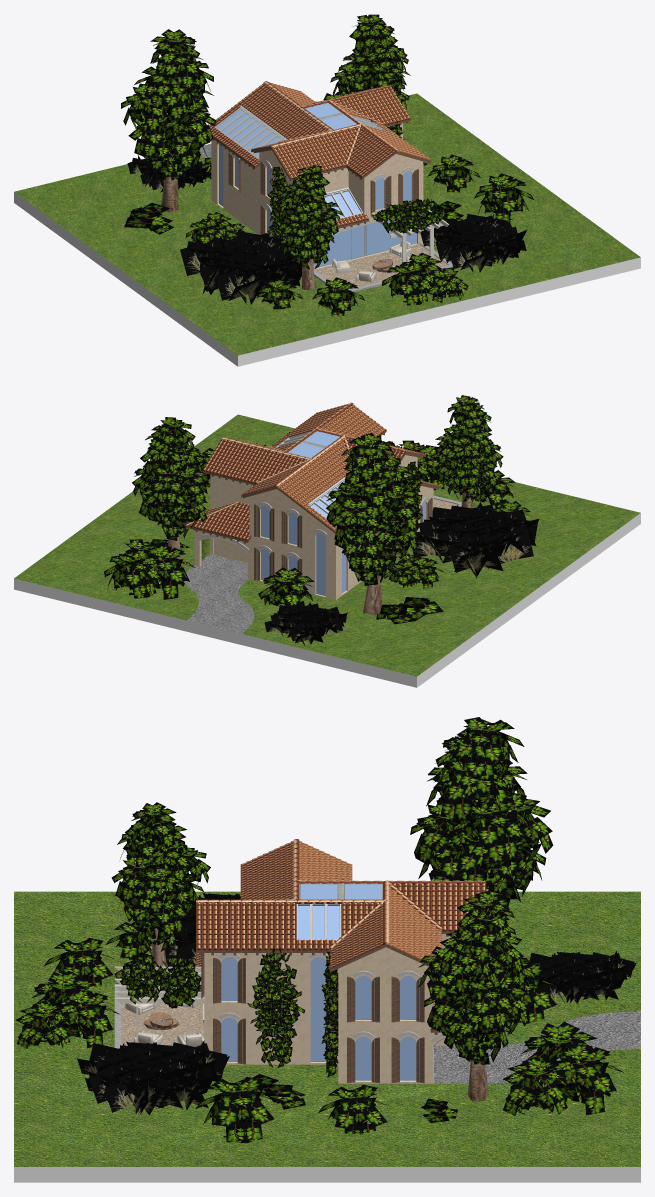
File: Home.glb
3 renders of one model, top to bottom at view 1: azimuth 30°, elevation 25°; view 2: azimuth 150°, elevation 25°; view 3: azimuth 270°, elevation 25°, orthographic. The views are drawn at different scales.
Visible parts, largest first — view 1: SHC Spanish Modern House 3, SHC Spanish Modern House 3.022, SHC Spanish Modern House 3.017, SHC Spanish Modern House 3.024, SHC Spanish Modern House 3.040, SHC Spanish Modern House 3.014, SHC Spanish Modern House 3.013, SHC Spanish Modern House 3.015, SHC Spanish Modern House 3.007, SHC Spanish Modern House 3.020, SHC Spanish Modern House 3.023, SHC Spanish Modern House 3.027 (+2 smaller); view 2: SHC Spanish Modern House 3, SHC Spanish Modern House 3.022, SHC Spanish Modern House 3.017, SHC Spanish Modern House 3.024, SHC Spanish Modern House 3.014, SHC Spanish Modern House 3.040, SHC Spanish Modern House 3.032, SHC Spanish Modern House 3.013, SHC Spanish Modern House 3.015, SHC Spanish Modern House 3.007, SHC Spanish Modern House 3.023; view 3: SHC Spanish Modern House 3.022, SHC Spanish Modern House 3, SHC Spanish Modern House 3.017, SHC Spanish Modern House 3.024, SHC Spanish Modern House 3.014, SHC Spanish Modern House 3.040, SHC Spanish Modern House 3.013, SHC Spanish Modern House 3.015, SHC Spanish Modern House 3.032, SHC Spanish Modern House 3.020, SHC Spanish Modern House 3.023, SHC Spanish Modern House 3.007 (+3 smaller).
Boxes of the visible parts, x1,y1,x2,y2 form: SHC Spanish Modern House 3: (14,93,640,355); SHC Spanish Modern House 3.022: (121,14,534,316); SHC Spanish Modern House 3.017: (209,81,431,226); SHC Spanish Modern House 3.024: (127,155,527,304); SHC Spanish Modern House 3.040: (14,192,640,366); SHC Spanish Modern House 3.014: (211,123,423,269); SHC Spanish Modern House 3.013: (217,103,416,268); SHC Spanish Modern House 3.015: (212,119,431,236); SHC Spanish Modern House 3.007: (214,105,414,234); SHC Spanish Modern House 3.020: (314,244,447,289); SHC Spanish Modern House 3.023: (161,122,392,290); SHC Spanish Modern House 3.027: (332,240,420,282); SHC Spanish Modern House 3: (14,414,640,676); SHC Spanish Modern House 3.022: (104,395,530,624); SHC Spanish Modern House 3.017: (185,402,441,540); SHC Spanish Modern House 3.024: (264,502,539,646); SHC Spanish Modern House 3.014: (194,455,433,599); SHC Spanish Modern House 3.040: (14,513,640,687); SHC Spanish Modern House 3.032: (184,554,254,634); SHC Spanish Modern House 3.013: (261,431,425,595); SHC Spanish Modern House 3.015: (186,430,441,584); SHC Spanish Modern House 3.007: (197,431,429,558); SHC Spanish Modern House 3.023: (168,491,472,614); SHC Spanish Modern House 3.022: (15,717,624,1143); SHC Spanish Modern House 3: (14,891,640,1166); SHC Spanish Modern House 3.017: (196,839,486,1029); SHC Spanish Modern House 3.024: (77,893,636,1114); SHC Spanish Modern House 3.014: (204,934,454,1083); SHC Spanish Modern House 3.040: (14,1167,640,1182); SHC Spanish Modern House 3.013: (221,884,456,1080); SHC Spanish Modern House 3.015: (196,887,454,1083); SHC Spanish Modern House 3.032: (433,1010,640,1083); SHC Spanish Modern House 3.020: (121,991,204,1045); SHC Spanish Modern House 3.023: (144,928,488,1101); SHC Spanish Modern House 3.007: (203,904,445,1042).
Size of the model in its own units: 2916 by 1307 by 2807.
Materials: 41 (29 with a texture image).
